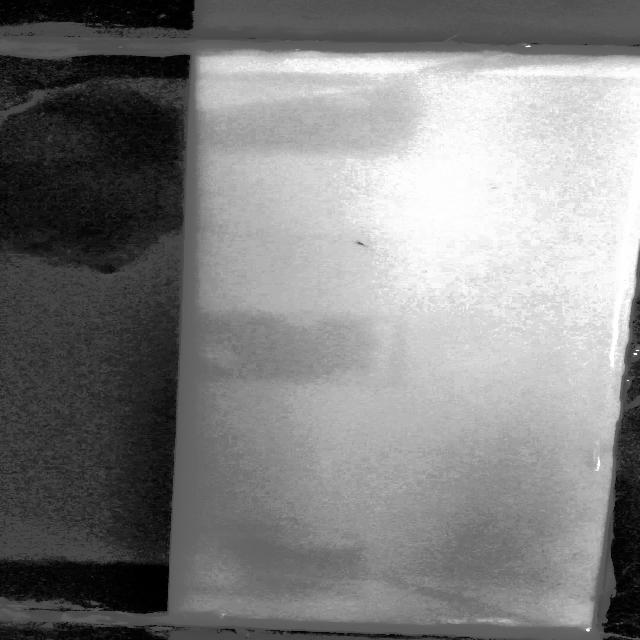shrimp: (329, 233, 379, 256)
